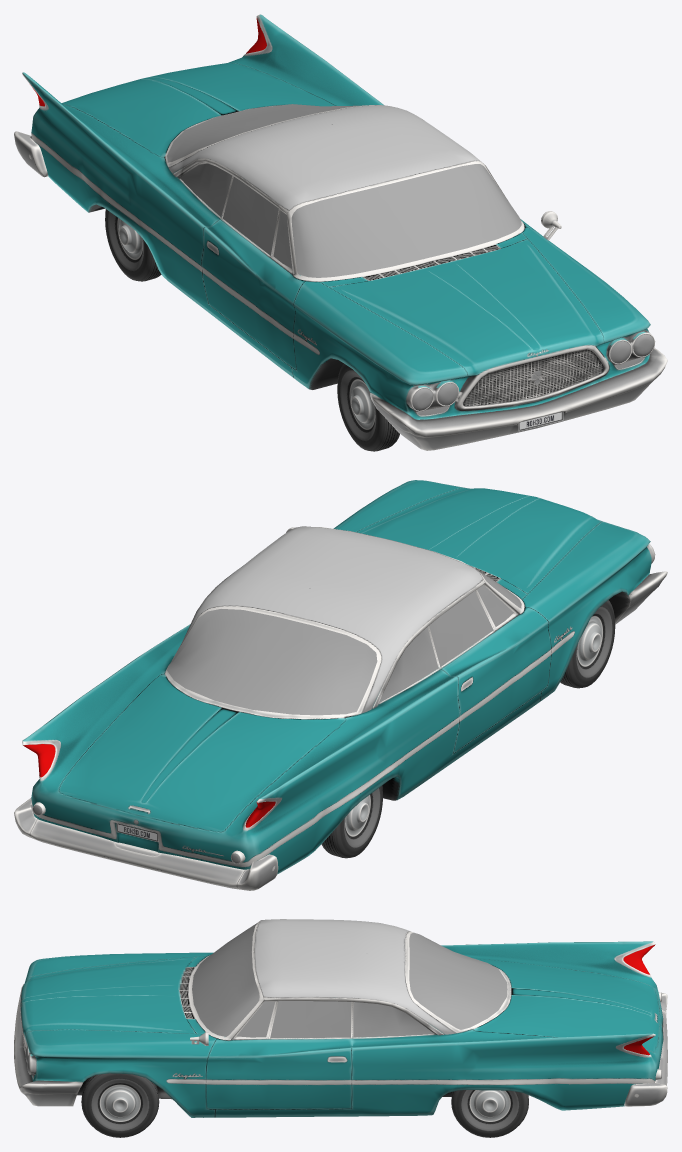
The model's file is chrysler_saratoga_1960.glb.
3 renders of one model, top to bottom at view 1: azimuth 30°, elevation 25°; view 2: azimuth 150°, elevation 25°; view 3: azimuth 270°, elevation 25°, orthographic. The views are drawn at different scales.
Visible parts, largest first — view 1: Object_3, Object_4, Object_2; view 2: Object_3, Object_4, Object_2; view 3: Object_3, Object_4, Object_2.
Part boxes in pixels (<box>): Object_3: <box>14,14,667,450</box>; Object_4: <box>32,18,654,415</box>; Object_2: <box>105,209,399,451</box>; Object_3: <box>14,480,667,890</box>; Object_4: <box>23,570,521,863</box>; Object_2: <box>321,600,615,858</box>; Object_3: <box>14,919,667,1117</box>; Object_4: <box>25,923,661,1078</box>; Object_2: <box>81,1073,528,1137</box>.
Bounding box in the file's own units: 216 × 140 × 573.
3 materials, 3 textured.
